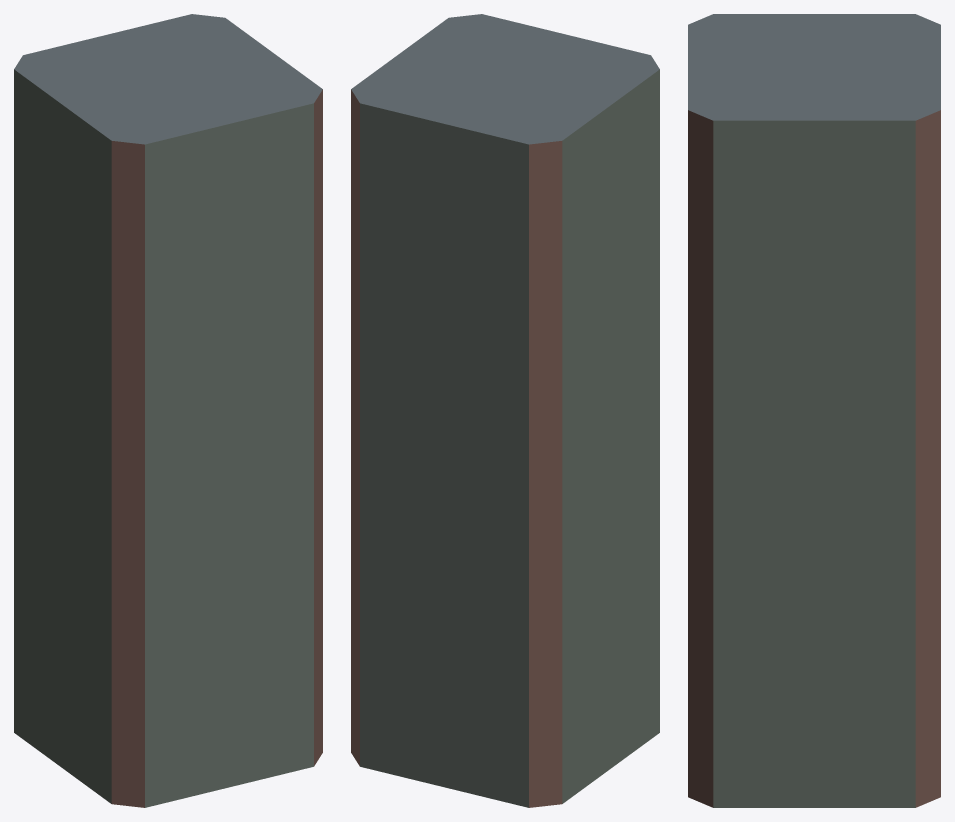
File: pillar_wide_3m.fbx
3 renders of one model, left to right at view 1: azimuth 30°, elevation 25°; view 2: azimuth 150°, elevation 25°; view 3: azimuth 270°, elevation 25°, orthographic. The views are drawn at different scales.
Visible parts, largest first — view 1: Cube; view 2: Cube; view 3: Cube.
Boxes of the visible parts, x1=… form: Cube: x1=14, y1=14, x2=322, y2=807; Cube: x1=351, y1=14, x2=659, y2=807; Cube: x1=688, y1=14, x2=940, y2=807.
Size of the model in its own units: 100 by 300 by 100.
